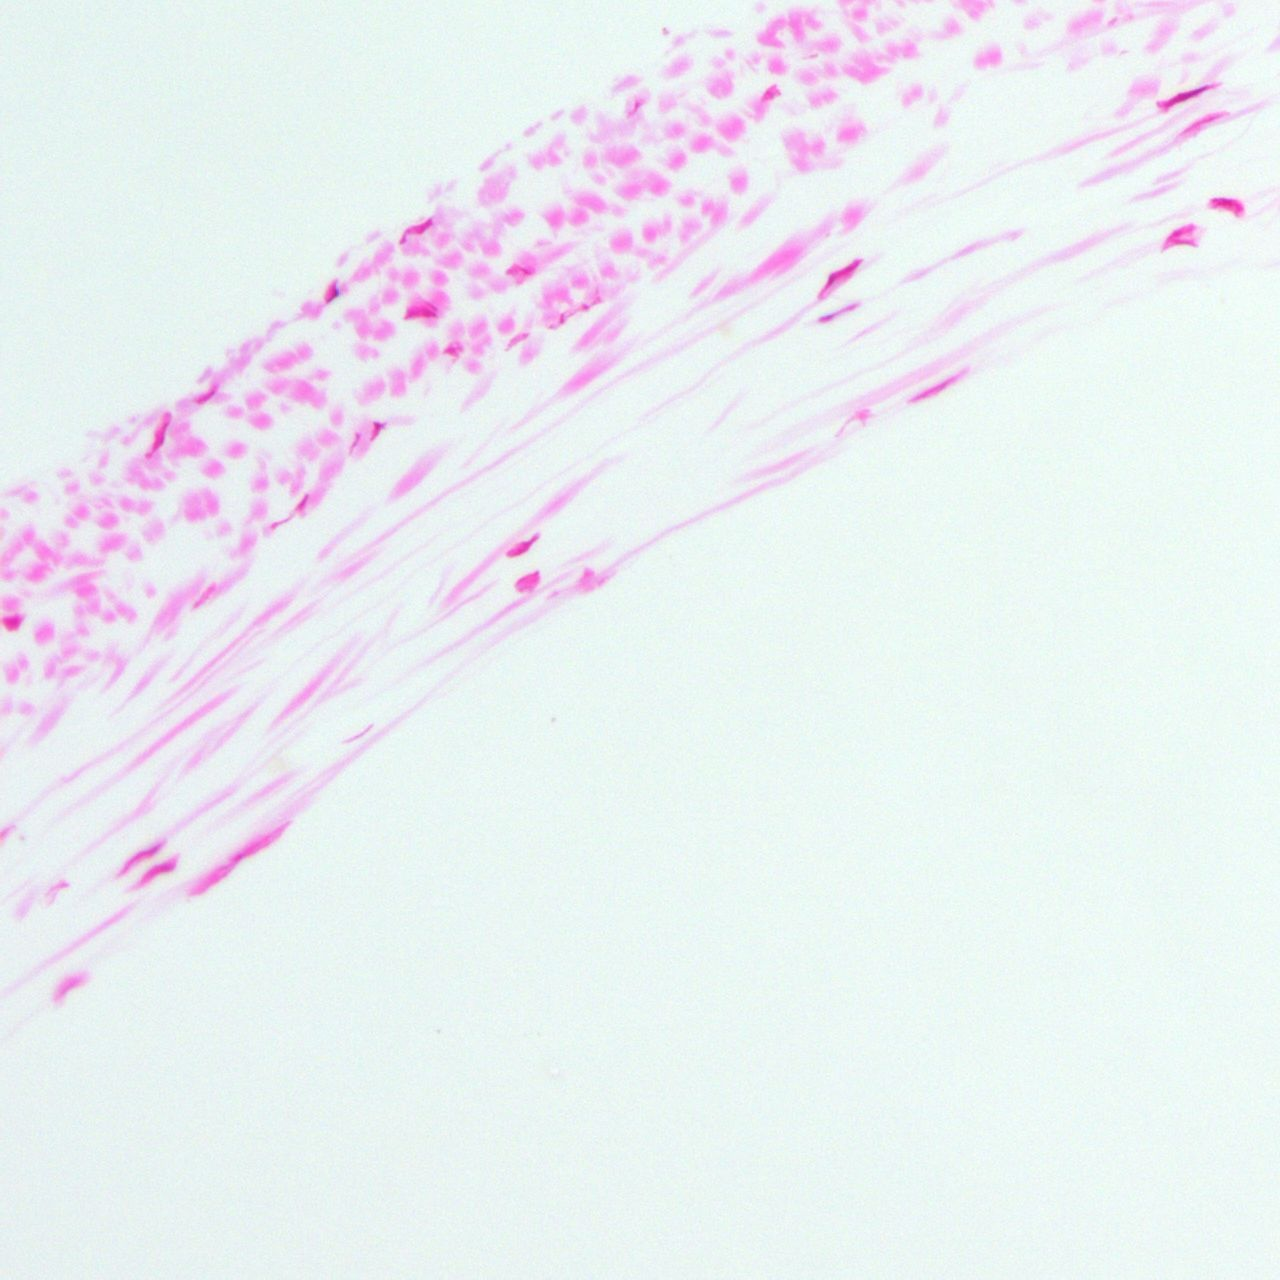nucleus-FG: (186, 815, 291, 903), (810, 250, 867, 298), (907, 367, 968, 407), (129, 851, 181, 896), (115, 833, 166, 876), (1155, 81, 1219, 113), (142, 409, 176, 459), (503, 529, 543, 563), (817, 298, 865, 325), (395, 215, 434, 245), (511, 567, 547, 599), (1160, 223, 1198, 246), (1208, 197, 1245, 216), (365, 418, 384, 444), (195, 386, 217, 406), (326, 277, 342, 304), (1, 614, 25, 632), (404, 307, 435, 319), (294, 492, 309, 513), (505, 264, 532, 274)
